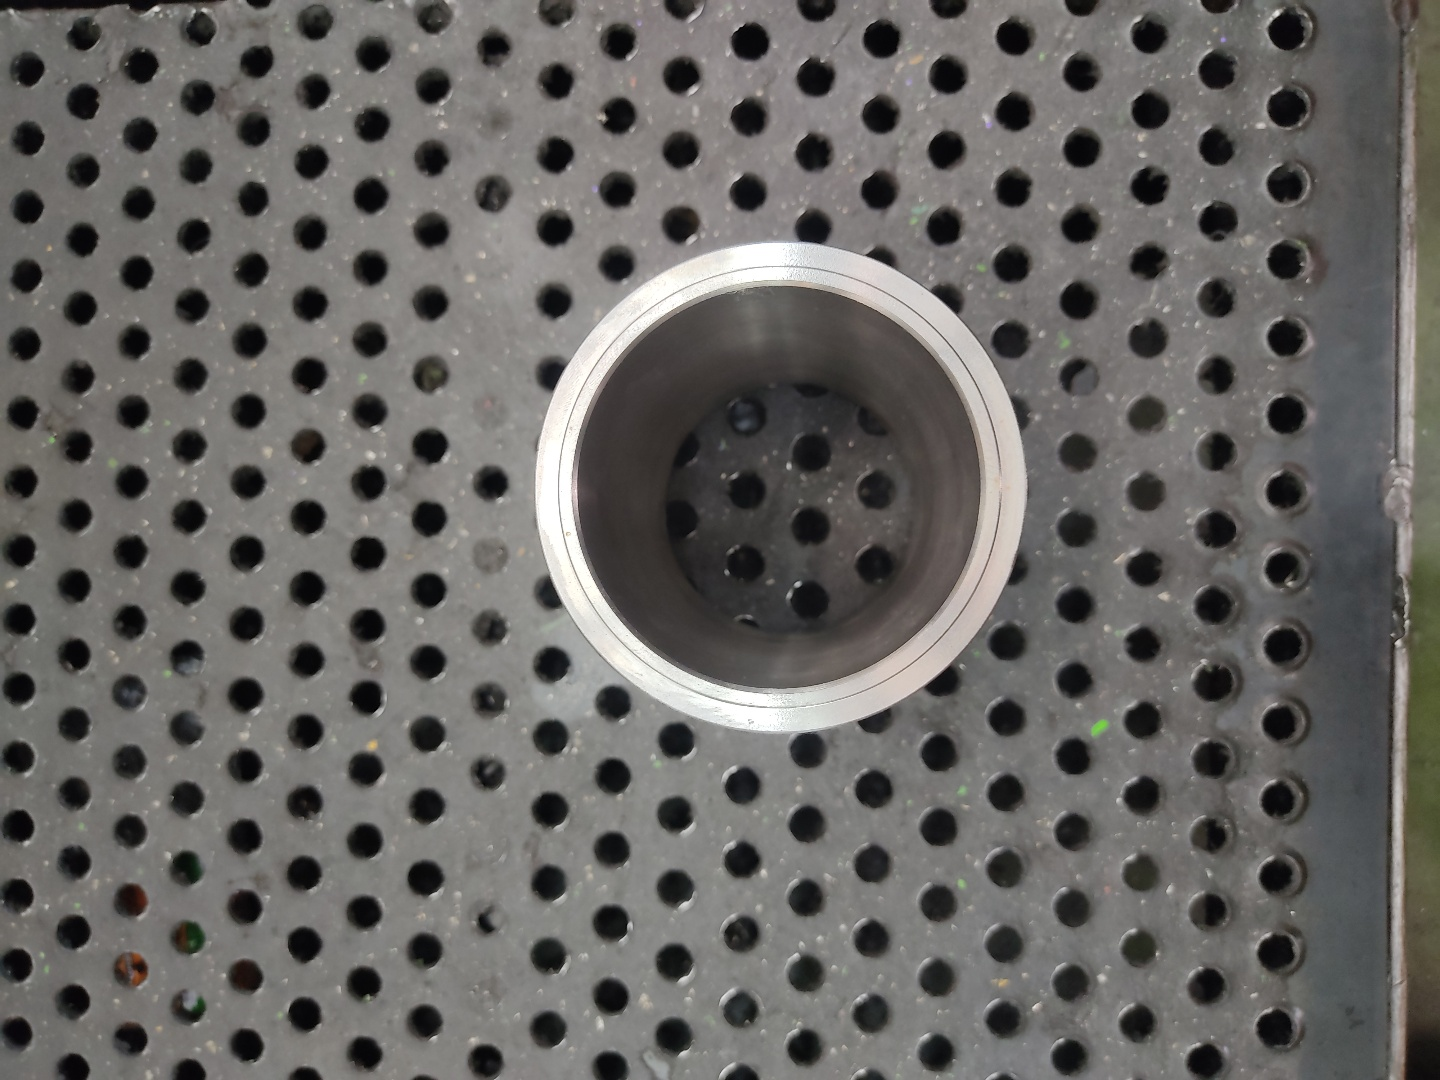cylinder: (530, 237, 1037, 739)
